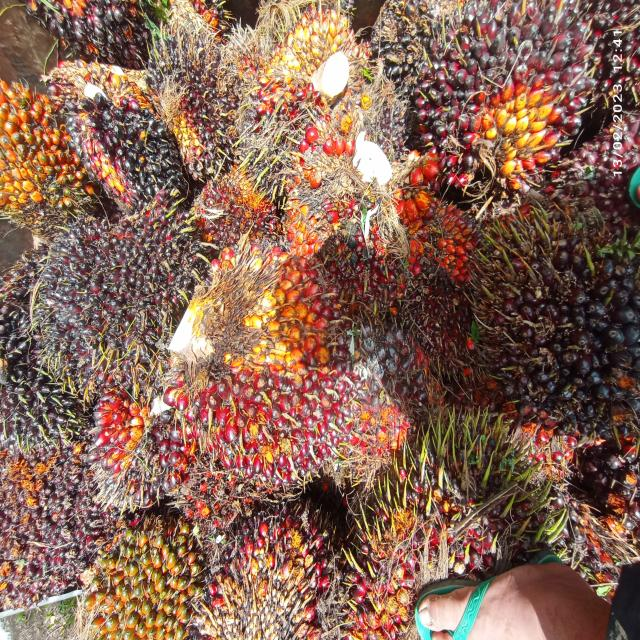fraksi 00: (28, 168, 216, 406), (36, 14, 211, 255), (141, 10, 254, 188)
fraksi 1: (417, 0, 603, 199), (73, 370, 183, 532)
fraksi 3: (143, 198, 380, 508)
fraksi 4: (299, 94, 474, 318), (0, 56, 115, 247)
